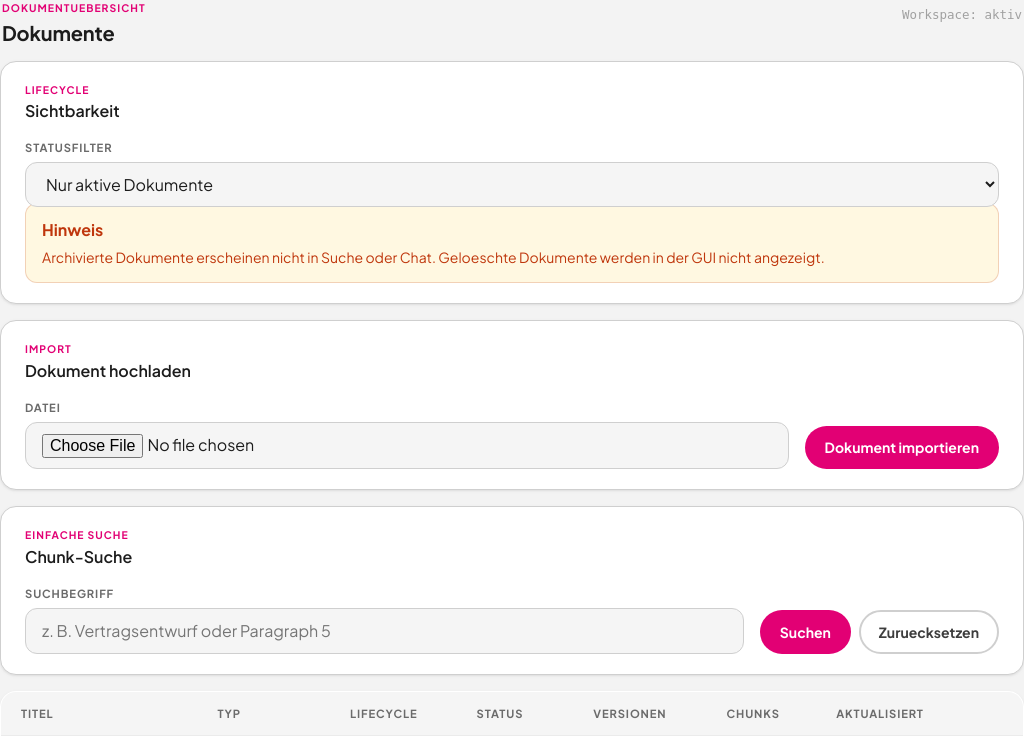
it: DocumentsPage › renders search results with preview and source anchor
In the search field with placeholder "z. B. Vertragsentwurf oder Paragraph 5": (384, 631) 25,608 -> 744,654, type "vertragsentwurf"
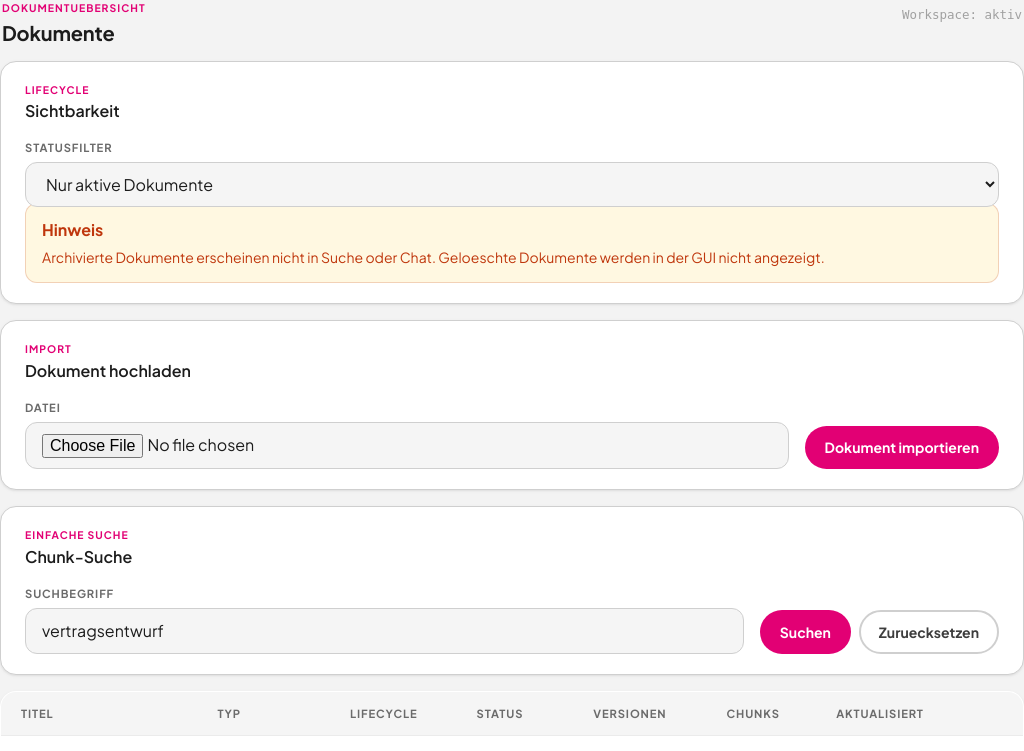
Click the button "Suchen": (805, 632) 760,610 -> 851,654
(page scrolled)
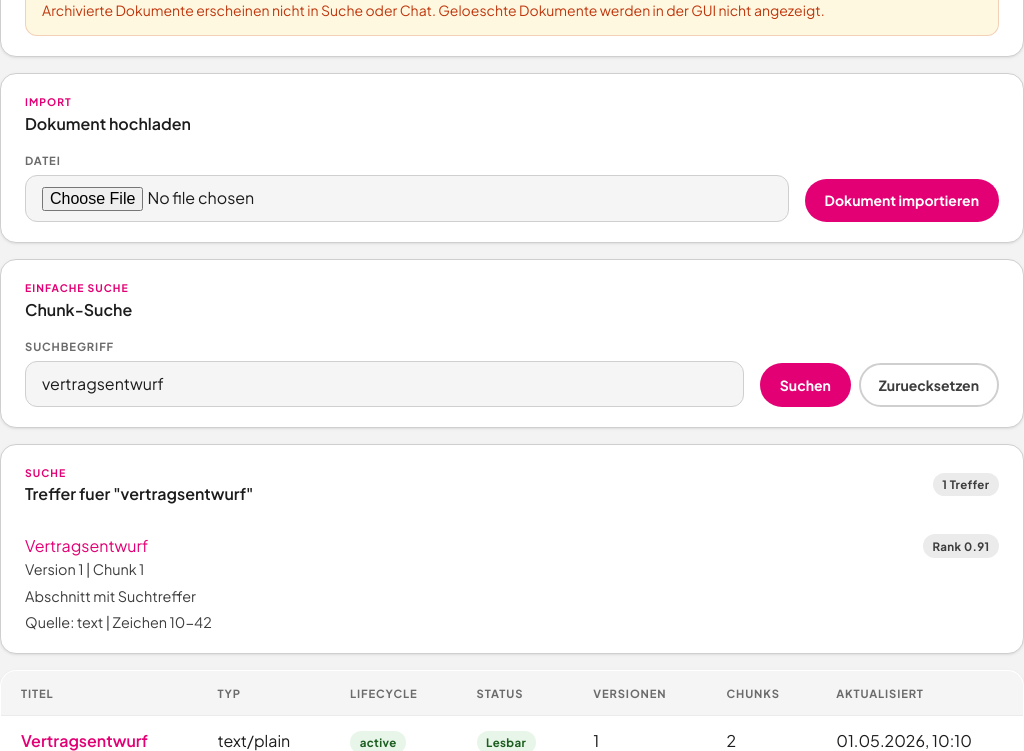
Check: the heading "Treffer fuer \"vertragsentwurf\"" is shown, box 25,484 -> 254,504
Check: the text "Abschnitt mit Suchtreffer" is shown, box 25,587 -> 196,605
Check: the text "Quelle: text | Zeichen 10-42" is shown, box 25,613 -> 212,631
